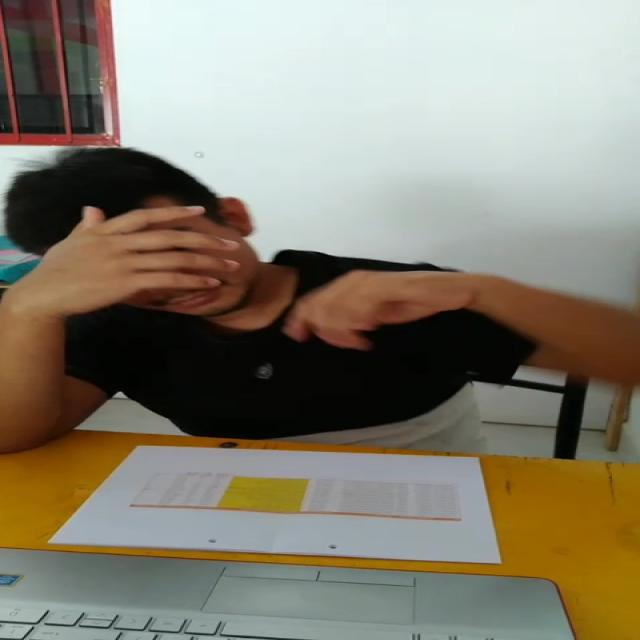7_mano_rostro: (0, 208, 231, 294)
